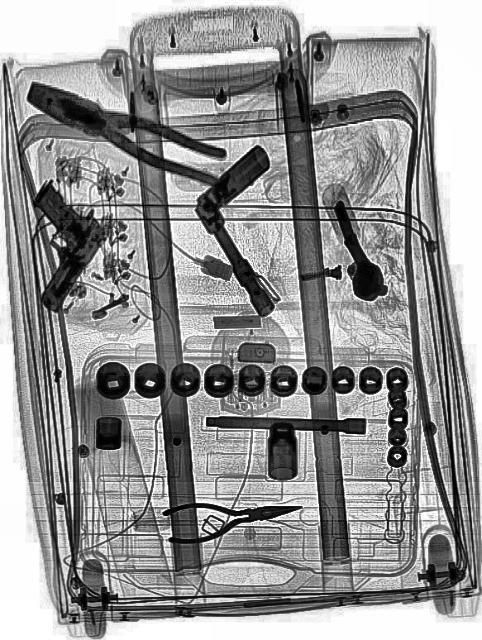Gun: (0, 180, 106, 316)
Pliers: (21, 65, 229, 195), (161, 484, 301, 548)
